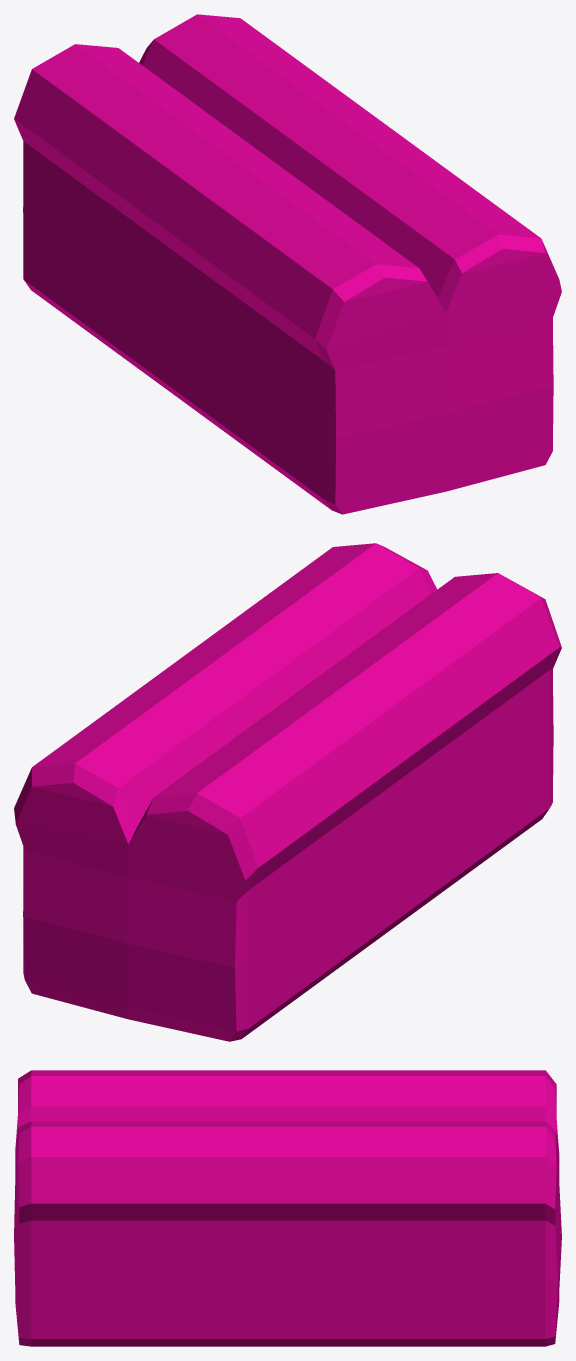
Rendered from Bread_01.fbx.
3 renders of one model, top to bottom at view 1: azimuth 30°, elevation 25°; view 2: azimuth 150°, elevation 25°; view 3: azimuth 270°, elevation 25°, orthographic. The views are drawn at different scales.
Parts seen in each view (by area): view 1: Bread_01; view 2: Bread_01; view 3: Bread_01.
Boxes of the visible parts, x1=… form: Bread_01: x1=14, y1=14, x2=561, y2=514; Bread_01: x1=14, y1=543, x2=561, y2=1041; Bread_01: x1=14, y1=1070, x2=561, y2=1346.
Bounding box in the file's own units: 4.23 × 3.89 × 9.6.
